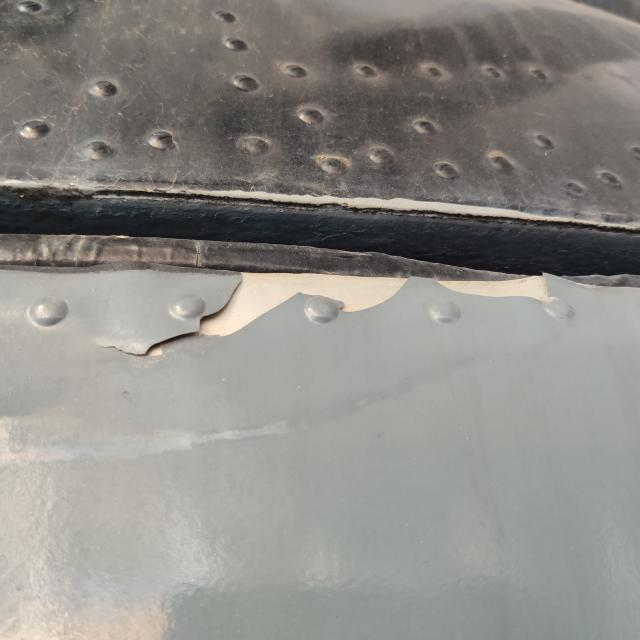paint-off: (81, 250, 568, 395)
